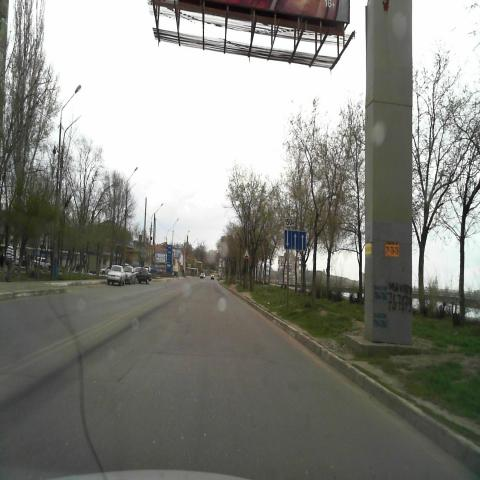5_15_7: (284, 229, 306, 251)
